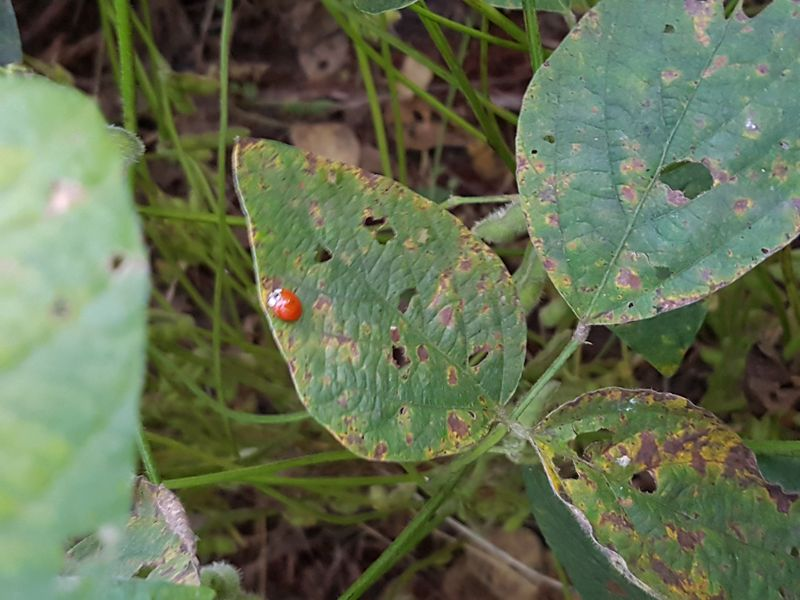Coccinellidae: (253, 274, 313, 336)
